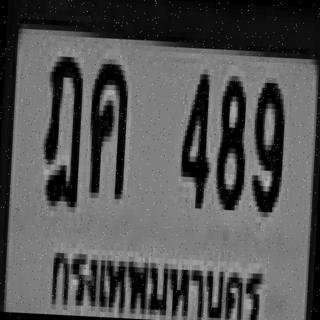A04: (85, 58, 128, 194)
A14: (39, 50, 83, 202)
N04: (178, 68, 212, 204)
N08: (213, 70, 248, 206)
N09: (248, 77, 285, 212)
P04: (44, 230, 267, 320)
